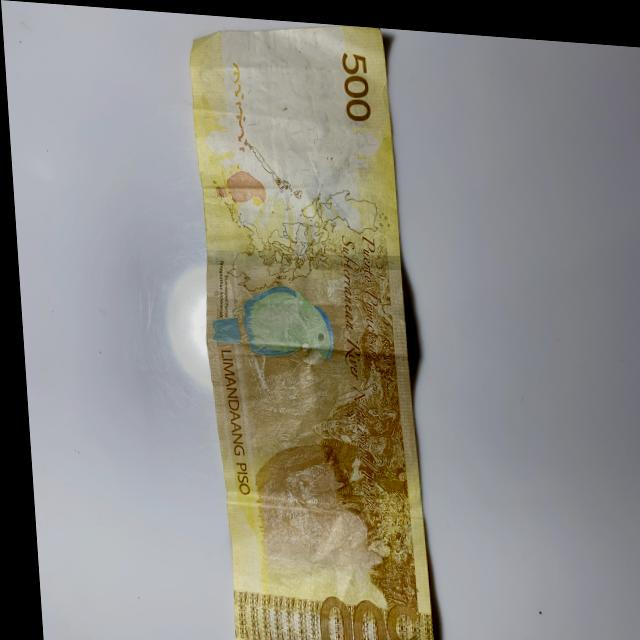500_big_parrot: (200, 274, 333, 370)
500_parrot_watermark: (207, 162, 266, 211)
value_watermark: (254, 48, 291, 74)
